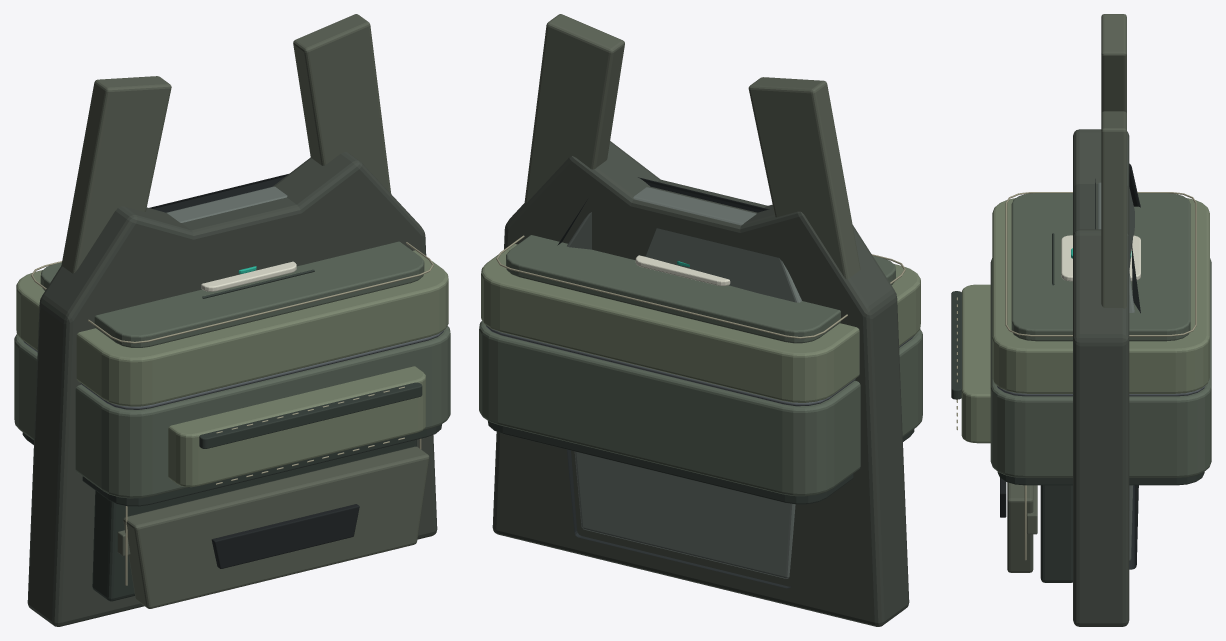
Rendered from field_use_props.glb.
The picture shows the model from 3 angles, left to right: view 1: azimuth 30°, elevation 25°; view 2: azimuth 150°, elevation 25°; view 3: azimuth 270°, elevation 25°; orthographic projection. The views are drawn at different scales.
Parts seen in each view (by area): view 1: ArmorCarrierPaddedBody, ArmorCarrierFlapPanel, TraumaKitLidShell, TraumaKitBody, TraumaKitFrontPocket, TraumaKitLidInset, ArmorCarrierShoulderL, ArmorCarrierShoulderR, ArmorCarrierPlatePocket, ArmorCarrierHookLoop, TraumaKitPocketTrim, TraumaKitLowerGuard (+5 smaller); view 2: ArmorCarrierPaddedBody, TraumaKitBody, TraumaKitLidShell, ArmorPlateCompositeCore, TraumaKitLidInset, ArmorCarrierShoulderL, ArmorCarrierShoulderR, TraumaKitLowerGuard, ArmorPlateEdgeSeal, TraumaKitZipperRail, TraumaKitLidSeam, TraumaKitMedicalPatch; view 3: ArmorCarrierPaddedBody, TraumaKitLidInset, TraumaKitBody, TraumaKitLidShell, ArmorCarrierShoulderR, TraumaKitFrontPocket, ArmorCarrierPlatePocket, ArmorCarrierShoulderL, ArmorCarrierFlapPanel, TraumaKitPocketTrim, ArmorPlateEdgeSeal, TraumaKitLowerGuard (+5 smaller).
Boxes of the visible parts, box(x1,y1,x2,y2) form: ArmorCarrierPaddedBody: box(27, 152, 437, 626); ArmorCarrierFlapPanel: box(123, 446, 429, 608); TraumaKitLidShell: box(16, 250, 448, 406); TraumaKitBody: box(14, 326, 450, 498); TraumaKitFrontPocket: box(168, 366, 425, 487); TraumaKitLidInset: box(40, 241, 424, 347); ArmorCarrierShoulderL: box(61, 76, 171, 273); ArmorCarrierShoulderR: box(293, 14, 391, 193); ArmorCarrierPlatePocket: box(92, 439, 416, 601); ArmorCarrierHookLoop: box(211, 504, 359, 568); TraumaKitPocketTrim: box(199, 382, 422, 448); TraumaKitLowerGuard: box(22, 424, 441, 506); ArmorCarrierPaddedBody: box(492, 141, 909, 626); TraumaKitBody: box(479, 321, 922, 496); TraumaKitLidShell: box(481, 244, 920, 402); ArmorPlateCompositeCore: box(567, 187, 801, 578); TraumaKitLidInset: box(506, 235, 895, 343); ArmorCarrierShoulderL: box(748, 77, 860, 279); ArmorCarrierShoulderR: box(524, 14, 624, 203); TraumaKitLowerGuard: box(488, 421, 914, 504); ArmorPlateEdgeSeal: box(557, 177, 791, 588); TraumaKitZipperRail: box(486, 325, 914, 406); TraumaKitLidSeam: box(496, 235, 905, 338); TraumaKitMedicalPatch: box(635, 255, 730, 285); ArmorCarrierPaddedBody: box(1073, 129, 1129, 626); TraumaKitLidInset: box(1011, 193, 1190, 341); TraumaKitBody: box(990, 258, 1211, 477); TraumaKitLidShell: box(992, 198, 1209, 393); ArmorCarrierShoulderR: box(1101, 111, 1126, 308); TraumaKitFrontPocket: box(961, 284, 990, 443); ArmorCarrierPlatePocket: box(1040, 485, 1072, 582); ArmorCarrierShoulderL: box(1101, 14, 1126, 113); ArmorCarrierFlapPanel: box(1007, 482, 1033, 572); TraumaKitPocketTrim: box(951, 291, 961, 399); ArmorPlateEdgeSeal: box(1095, 163, 1140, 569); TraumaKitLowerGuard: box(997, 472, 1204, 485).
Size of the model in its own units: 0.3795 by 0.4869 by 0.2415.
